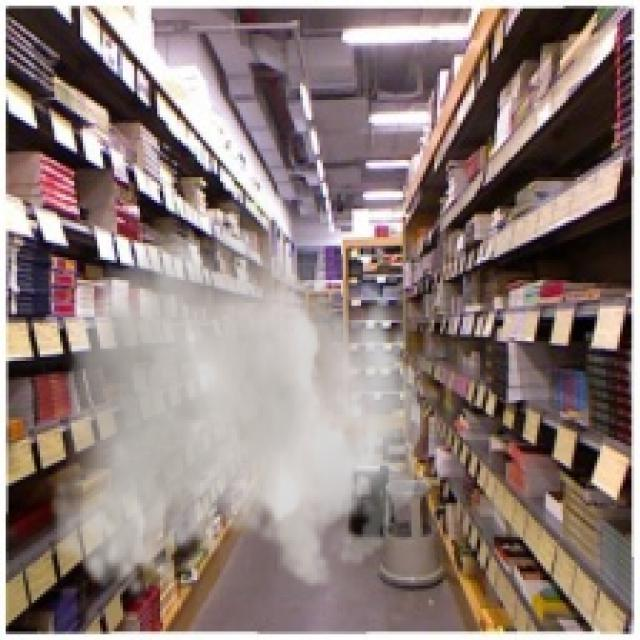smoke: (51, 180, 423, 600)
